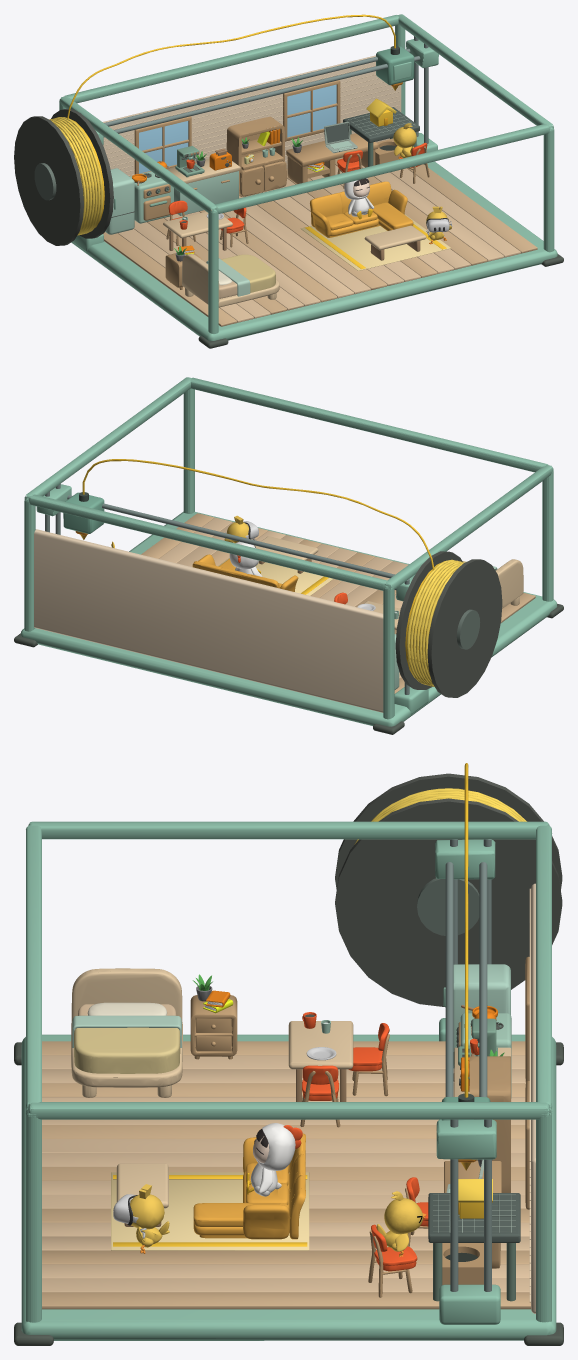
File: chikipiyo-dollhouse.glb
3 views of the same model, one above another, from view 1: azimuth 30°, elevation 25°; view 2: azimuth 150°, elevation 25°; view 3: azimuth 270°, elevation 25° (orthographic). The views are drawn at different scales.
Visible parts, largest first — view 1: Room, Linear_rod_X, Plane006, Hotend, Plane086, Plane090, Plane073_1, fridge_part_01, Cube018, desk_part_09, Plane005_1, vr_part_01 (+14 smaller); view 2: Room, Linear_rod_X, Hotend, Plane006, Plane073_1, vr_part_01; view 3: Room, Linear_rod_X, Plane073_1, Plane006, Plane005_1, Linear_rod_Z, desk_part_09, table_part_01, Circle002, Plane086, fridge_part_01, Hotend (+13 smaller).
Boxes of the visible parts, x1=… form: Room: x1=14, y1=14, x2=563, y2=348; Linear_rod_X: x1=95, y1=39, x2=438, y2=145; Plane006: x1=310, y1=181, x2=413, y2=237; Hotend: x1=67, y1=14, x2=414, y2=118; Plane086: x1=226, y1=116, x2=284, y2=196; Plane090: x1=286, y1=133, x2=378, y2=183; Plane073_1: x1=182, y1=253, x2=279, y2=307; fridge_part_01: x1=105, y1=168, x2=134, y2=234; Cube018: x1=174, y1=171, x2=238, y2=215; desk_part_09: x1=343, y1=107, x2=419, y2=166; Plane005_1: x1=221, y1=254, x2=275, y2=292; vr_part_01: x1=364, y1=225, x2=426, y2=260; Room: x1=14, y1=377, x2=563, y2=734; Linear_rod_X: x1=36, y1=484, x2=415, y2=601; Hotend: x1=63, y1=459, x2=434, y2=570; Plane006: x1=192, y1=554, x2=298, y2=591; Plane073_1: x1=496, y1=559, x2=523, y2=608; vr_part_01: x1=255, y1=536, x2=318, y2=573; Room: x1=14, y1=773, x2=563, y2=1345; Linear_rod_X: x1=435, y1=839, x2=496, y2=1159; Plane073_1: x1=71, y1=968, x2=182, y2=1097; Plane006: x1=193, y1=1133, x2=305, y2=1239; Plane005_1: x1=74, y1=1027, x2=180, y2=1073; Linear_rod_Z: x1=439, y1=1119, x2=500, y2=1324; desk_part_09: x1=428, y1=1193, x2=520, y2=1301; table_part_01: x1=288, y1=1021, x2=353, y2=1101; Circle002: x1=190, y1=995, x2=237, y2=1059; Plane086: x1=469, y1=1056, x2=510, y2=1192; fridge_part_01: x1=453, y1=964, x2=510, y2=1068; Hotend: x1=439, y1=763, x2=490, y2=1170.
Size of the model in its own units: 0.4 by 0.1794 by 0.2823.
